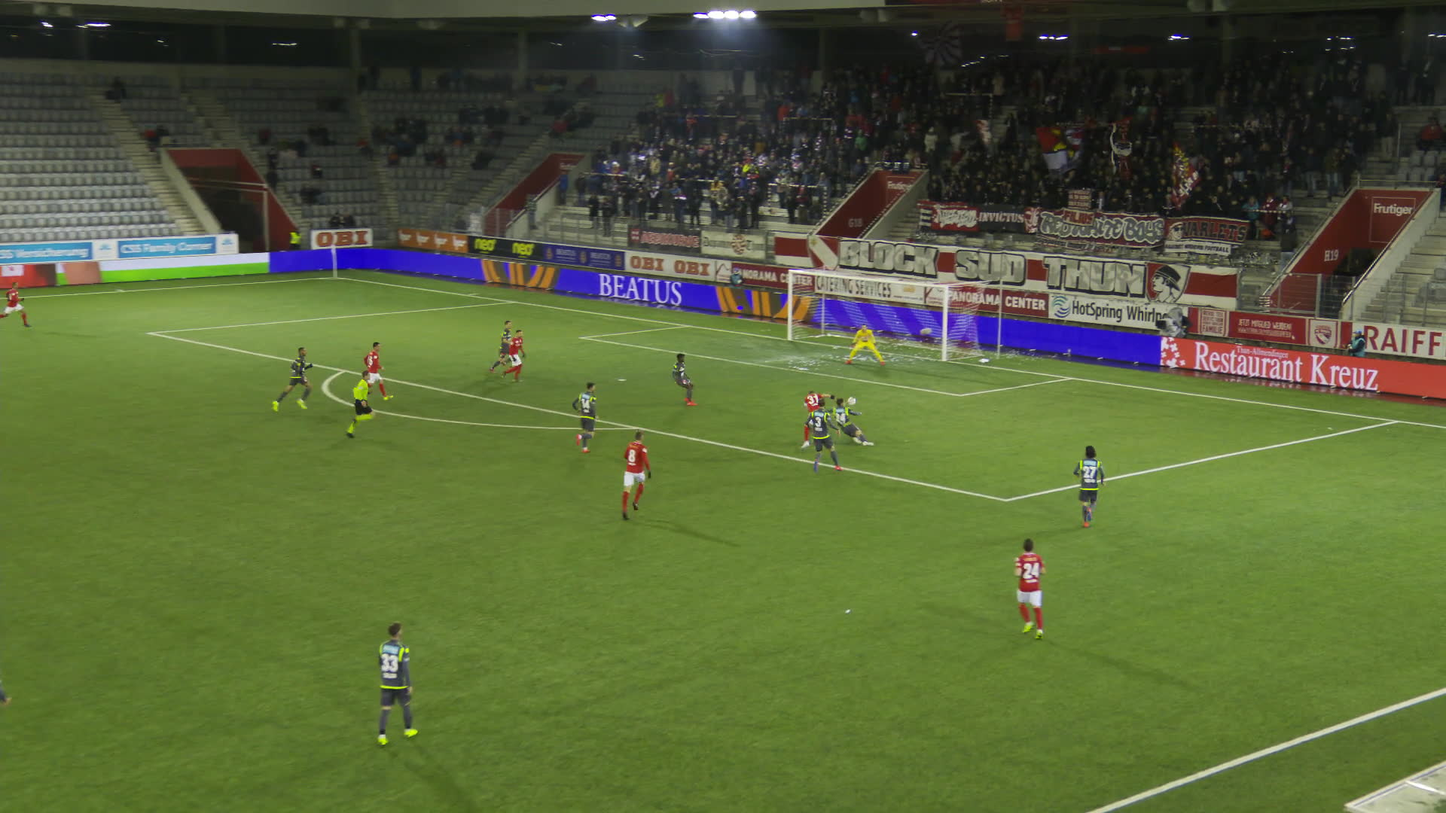ball: (846, 397, 856, 408)
player: (376, 622, 419, 744), (0, 641, 33, 784), (1014, 538, 1053, 637), (804, 400, 841, 477), (1072, 445, 1105, 527), (276, 348, 317, 412), (621, 432, 653, 514), (834, 398, 880, 445), (496, 327, 531, 382), (574, 380, 601, 451), (672, 350, 703, 405), (487, 320, 518, 373), (846, 322, 884, 364), (805, 388, 834, 443), (1, 282, 29, 330), (365, 342, 386, 400)
referee: (343, 370, 374, 437)
